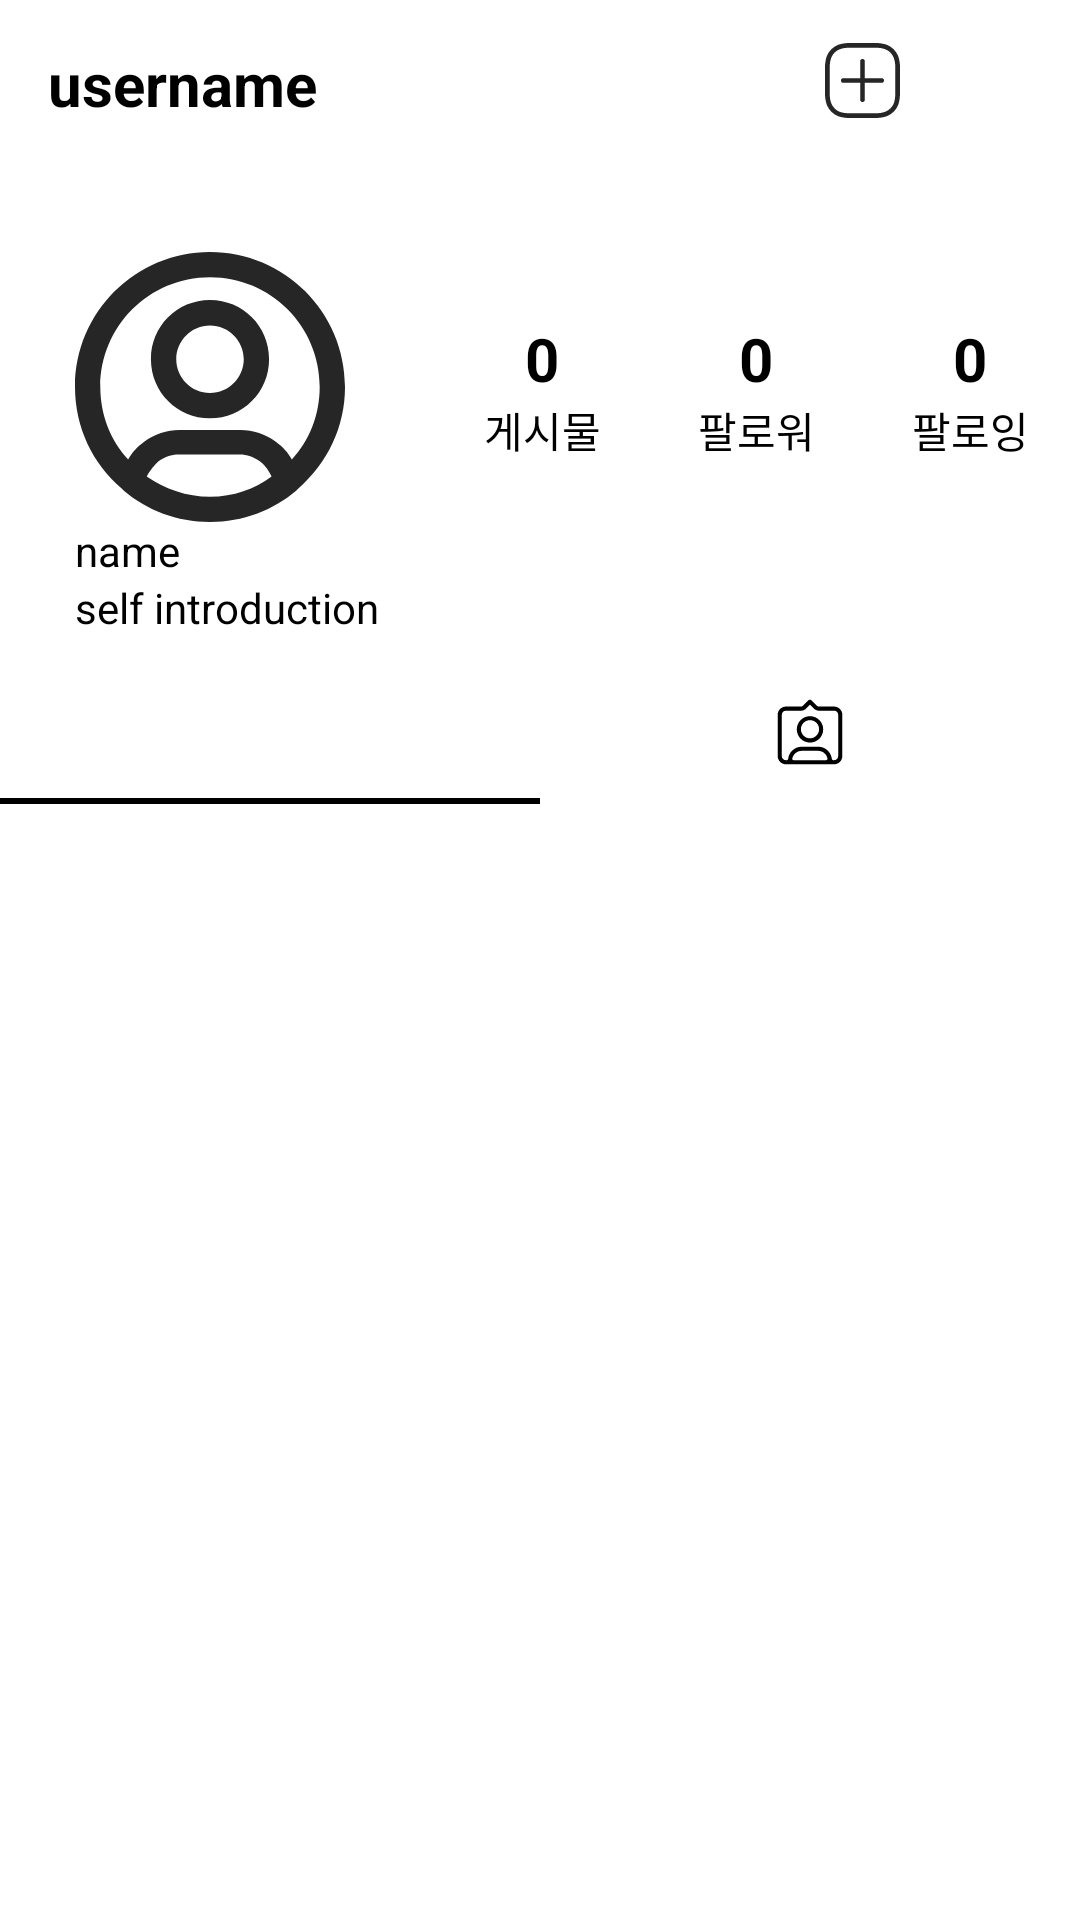

Icon click points for this 1080x1920 phone screenshot, format (x,y):
newposts: (862,80)
profile: (210,387)
